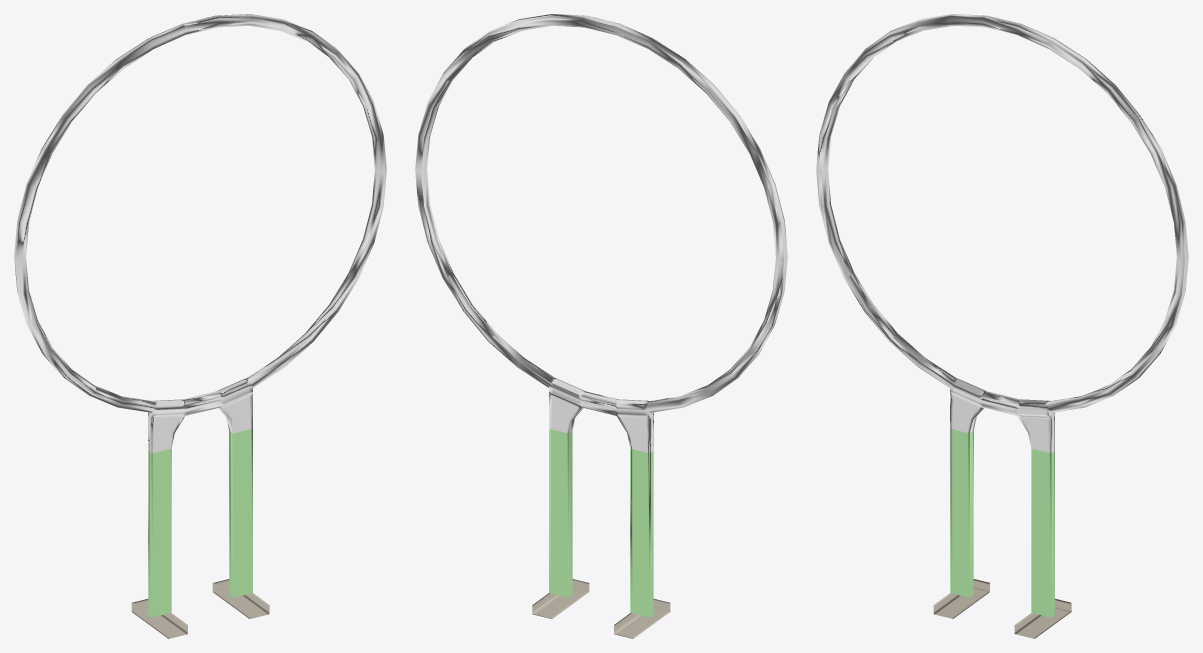
File: ring_worn_deluxe_prop_uee_01.glb
3 views of the same model, side by side, from view 1: azimuth 30°, elevation 25°; view 2: azimuth 150°, elevation 25°; view 3: azimuth 330°, elevation 25° (orthographic).
Size of the model in its own units: 8.09 by 12.35 by 1.4.
